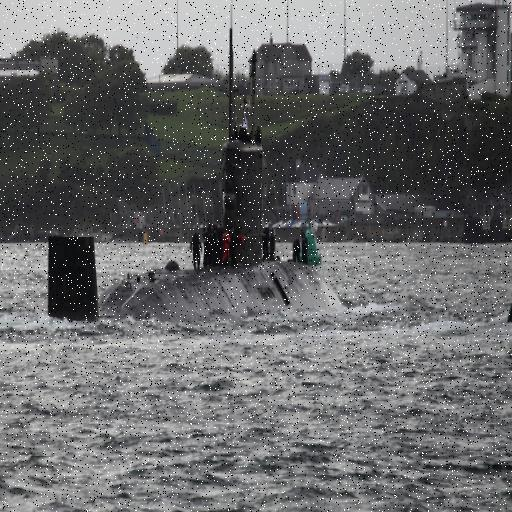submarine: (49, 29, 345, 328)
